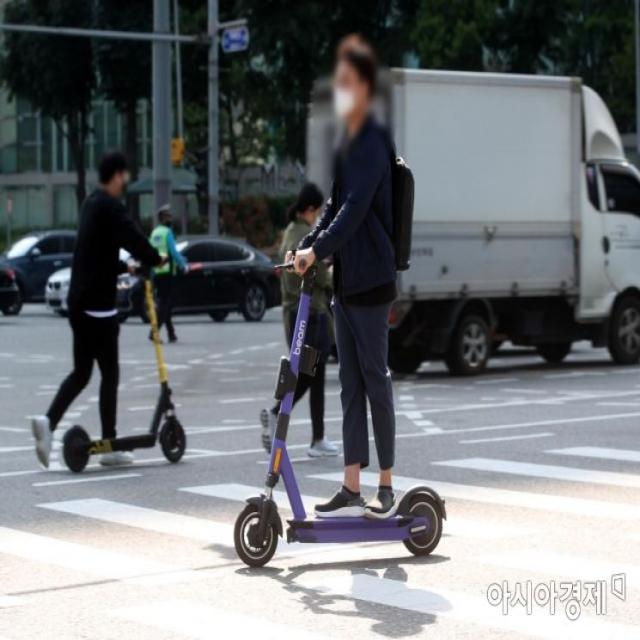non-helmet: (226, 36, 451, 570)
